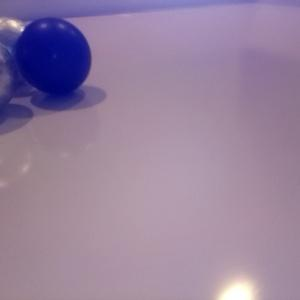alive_ball: (1, 15, 41, 87), (1, 45, 21, 109)
dead_ball: (15, 16, 92, 95)
